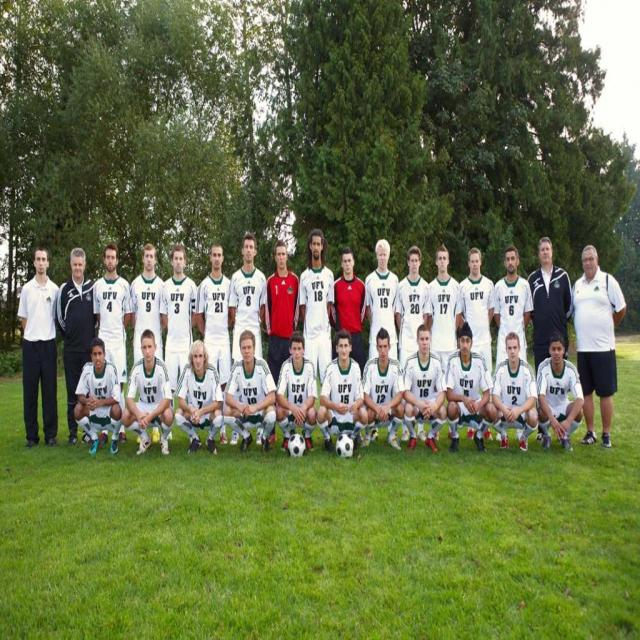Face: (543, 332, 570, 372), (500, 240, 521, 289), (372, 330, 396, 371), (65, 248, 90, 286), (135, 332, 157, 374), (455, 327, 477, 367), (208, 238, 228, 281), (465, 244, 484, 288), (140, 238, 161, 277), (90, 343, 110, 383), (333, 332, 356, 365), (237, 332, 257, 369), (171, 238, 187, 284), (309, 229, 328, 267), (335, 252, 358, 283), (537, 242, 562, 270), (418, 323, 435, 364), (273, 242, 294, 275), (32, 243, 50, 281), (584, 242, 601, 282), (190, 343, 209, 377), (237, 237, 258, 267), (104, 244, 122, 277), (375, 244, 393, 276), (407, 249, 423, 284), (436, 249, 452, 283), (290, 341, 307, 372), (504, 334, 526, 356)
